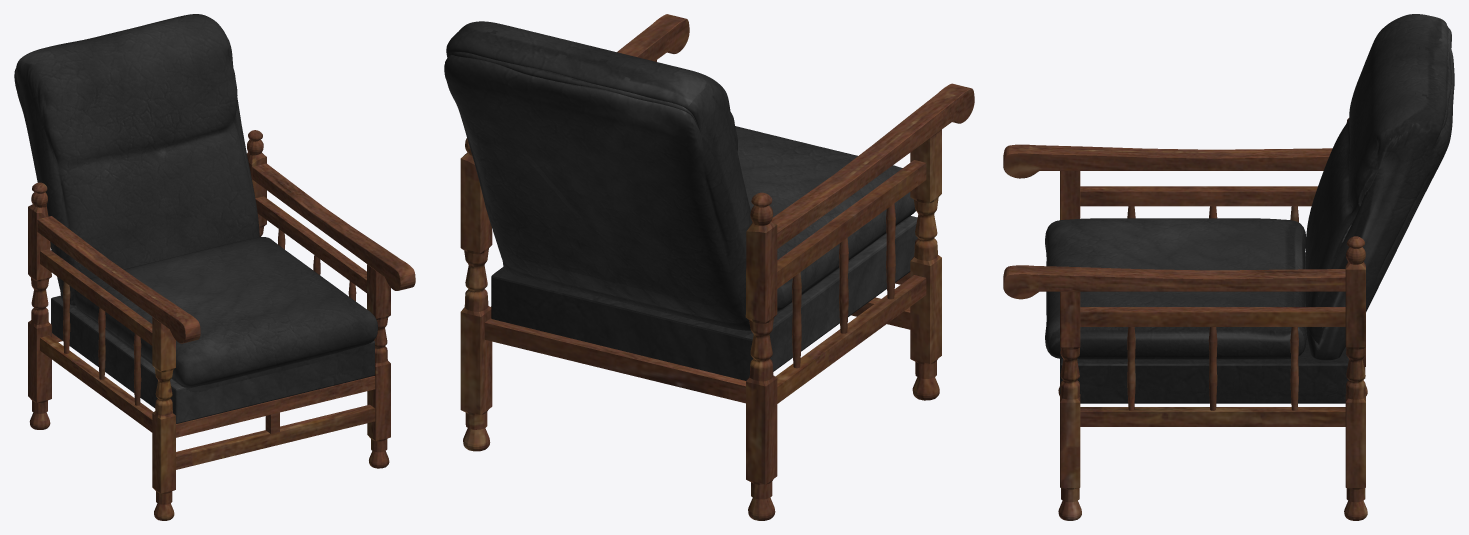
Rendered from home_chair.glb.
The picture shows the model from 3 angles, left to right: view 1: azimuth 30°, elevation 25°; view 2: azimuth 150°, elevation 25°; view 3: azimuth 270°, elevation 25°; orthographic projection. The views are drawn at different scales.
Visible parts, largest first — view 1: Object_3, Object_4, Object_2; view 2: Object_3, Object_4, Object_2; view 3: Object_3, Object_4, Object_2.
Boxes of the visible parts, x1,y1,x2,y2 form: Object_3: (14,14,377,387); Object_4: (28,130,415,520); Object_2: (51,295,374,423); Object_3: (444,21,915,330); Object_4: (460,14,974,520); Object_2: (491,215,917,380); Object_3: (1045,14,1454,360); Object_4: (1003,118,1367,520); Object_2: (1060,252,1348,403).
Size of the model in its own units: 0.758 by 1.07 by 1.11.
Materials: 2 (2 with a texture image).
